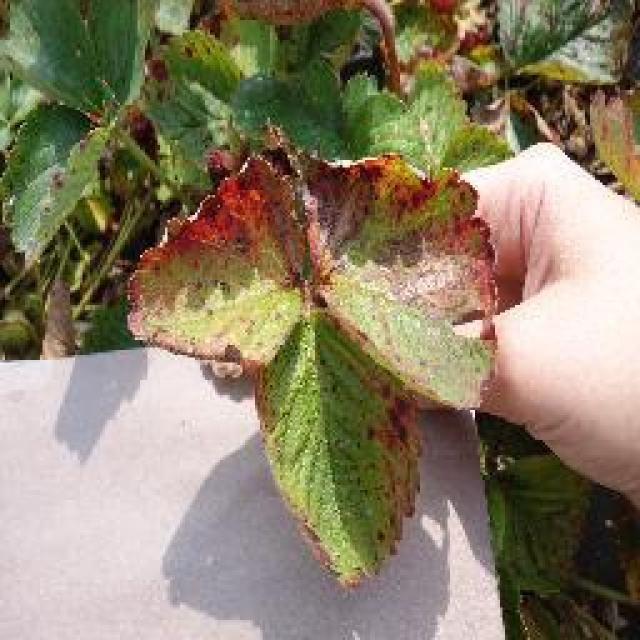Strawberry leaf scorch: (173, 185, 477, 353)
